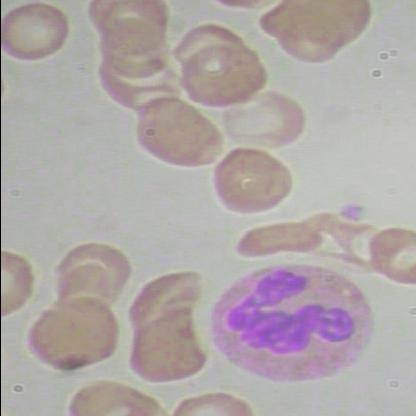Platelets: (338, 197, 372, 224)
RBC: (128, 96, 226, 172), (127, 94, 225, 170), (174, 41, 264, 113), (210, 146, 291, 220), (121, 320, 209, 388), (24, 304, 106, 373), (221, 90, 306, 150), (124, 269, 200, 335), (1, 0, 74, 65), (52, 238, 128, 298), (92, 24, 172, 80), (168, 16, 248, 72), (268, 13, 348, 68), (231, 218, 323, 262), (363, 221, 415, 290)
WBC: (201, 258, 380, 385)
